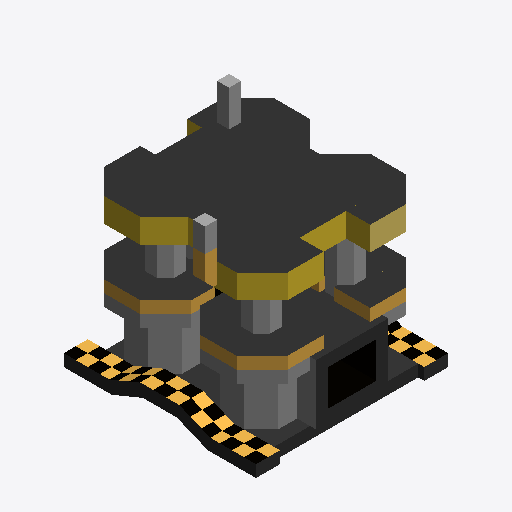
A Minecraft block model of 114 cuboids, rendered isometrically (azimuth 45°, elevation 35.3°) with the resource pack's own textures.
Parts seen in each view (by area): element 103, element 49, element 2, element 48, element 83, element 35, element 38, element 30, element 45, element 96, element 100, element 31 (+28 smaller).
Boxes of the visible parts, x1,y1,x2,y2 form: element 103: [118, 109, 380, 258]; element 49: [186, 257, 387, 373]; element 2: [106, 339, 417, 456]; element 48: [297, 360, 387, 428]; element 83: [346, 199, 405, 251]; element 35: [200, 314, 271, 383]; element 38: [334, 273, 405, 324]; element 30: [104, 259, 175, 327]; element 45: [208, 424, 279, 477]; element 96: [237, 245, 287, 299]; element 100: [104, 182, 163, 243]; element 31: [140, 286, 190, 327].
Size of the model in its own units: 16 by 16 by 16.